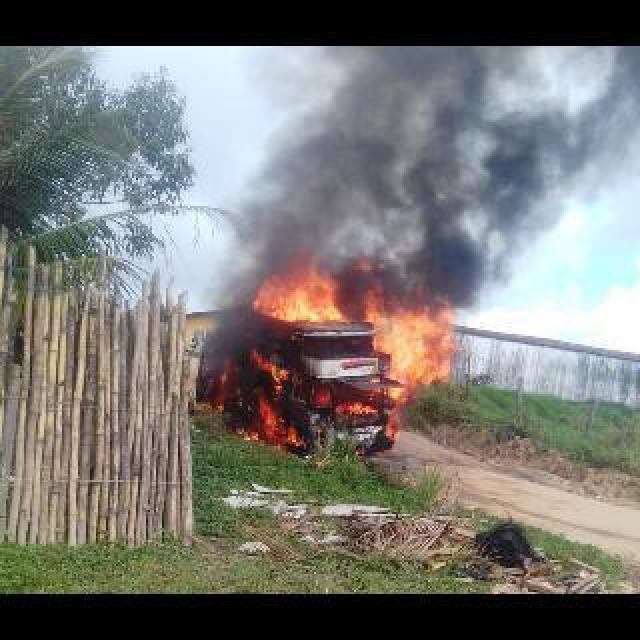Fire: (362, 290, 452, 400), (258, 258, 346, 318), (254, 392, 298, 450), (336, 398, 376, 414)
Smoke: (252, 48, 620, 294)
